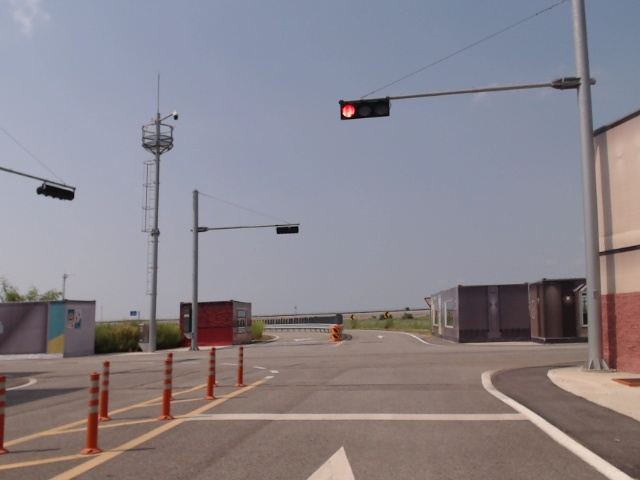red_3: (340, 99, 390, 119)
